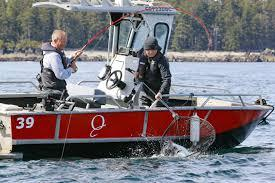fishing boat: (0, 0, 275, 162)
